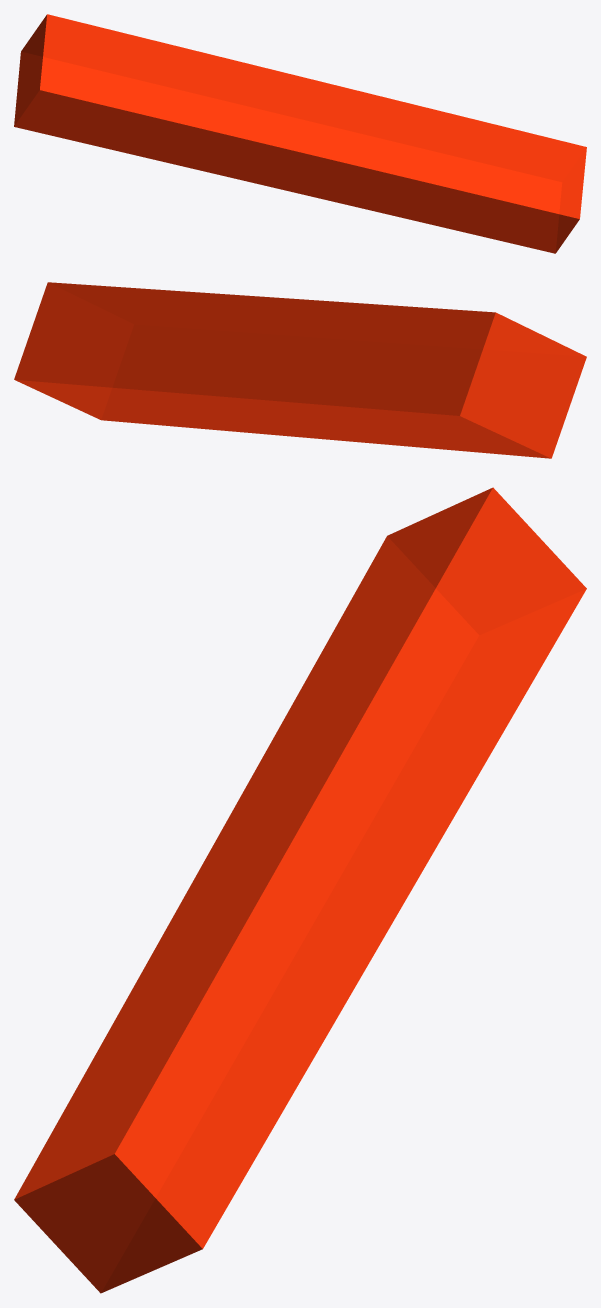
The model's file is Event_420604493_EBrechit_11.fbx.
3 renders of one model, top to bottom at view 1: azimuth 30°, elevation 25°; view 2: azimuth 150°, elevation 25°; view 3: azimuth 270°, elevation 25°, orthographic. The views are drawn at different scales.
Visible parts, largest first — view 1: Model; view 2: Model; view 3: Model.
Boxes of the visible parts, x1,y1,x2,y2 form: Model: (14, 14, 586, 253); Model: (14, 282, 586, 458); Model: (14, 487, 586, 1293).
Size of the model in its own units: 0.3983 by 0.2074 by 0.2349.
